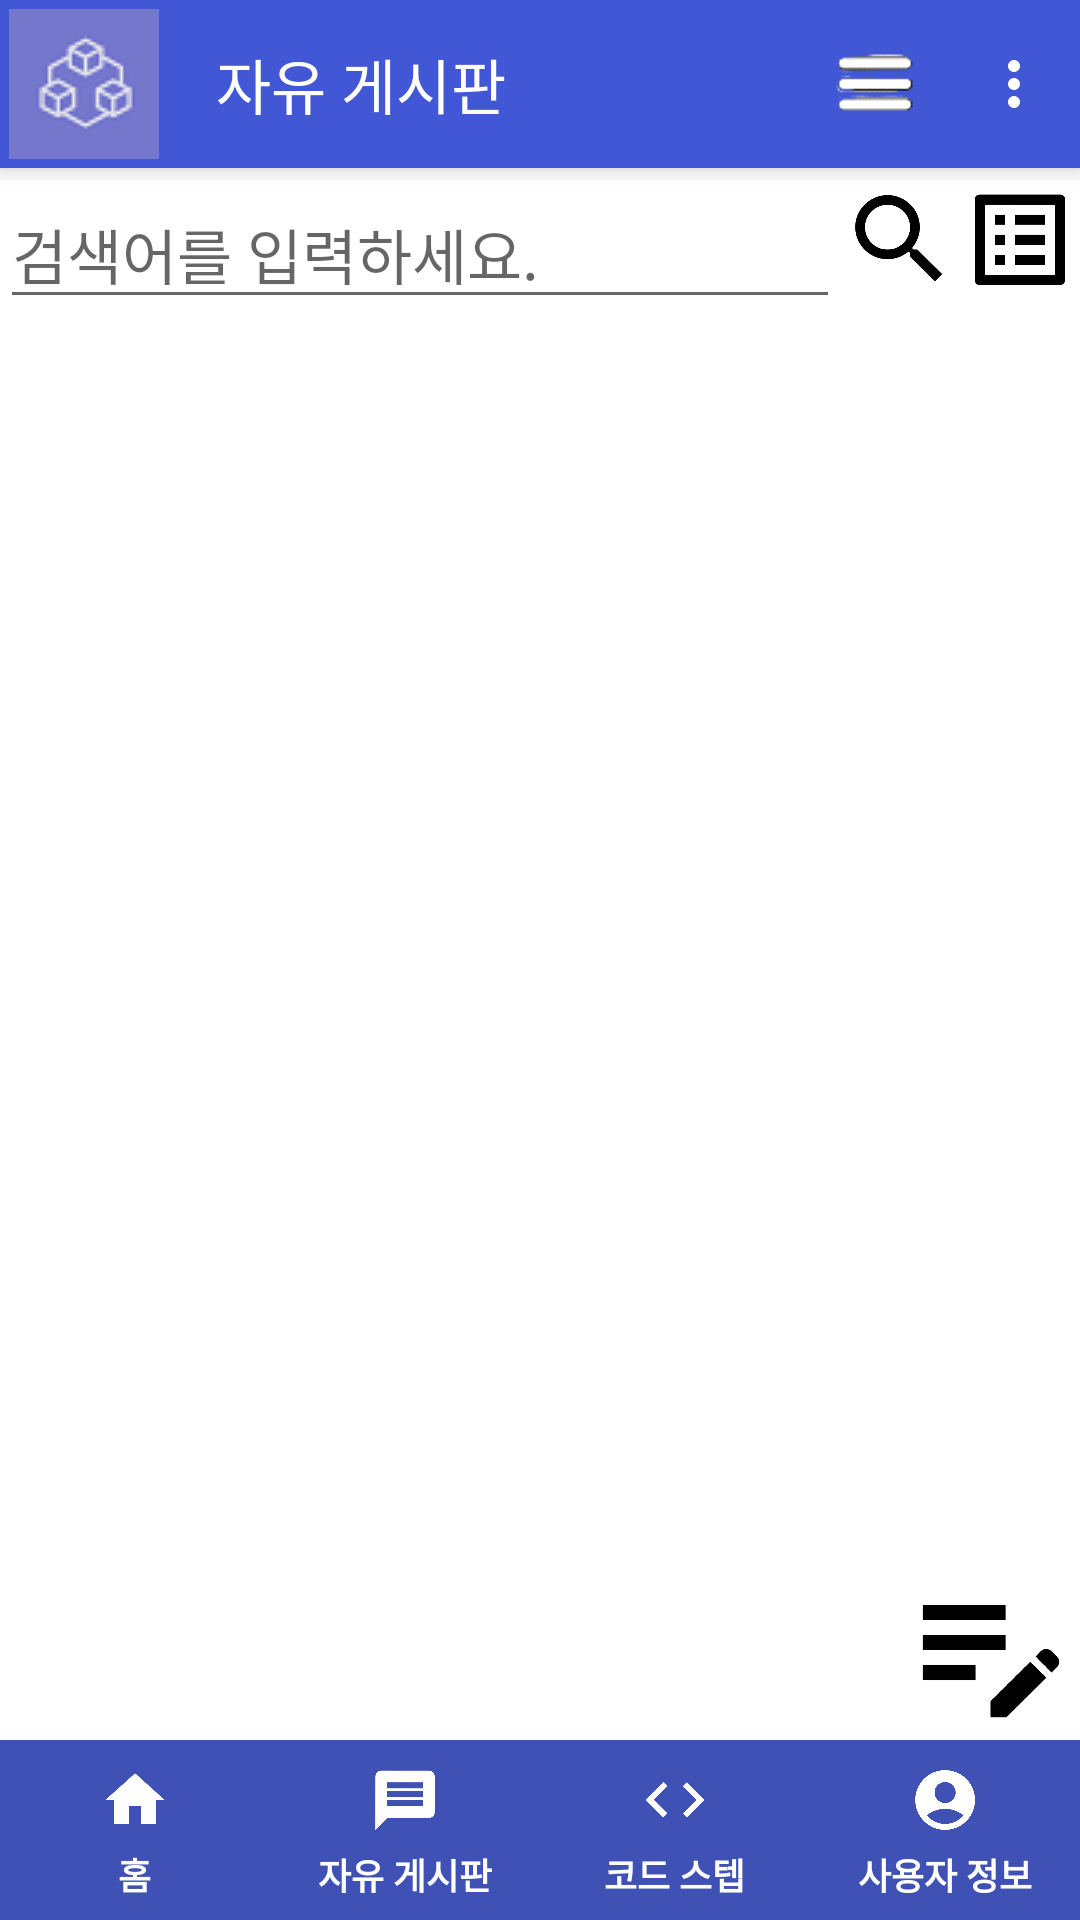

Named icons in this screenshot (1080px x 1920px) and their centers, point (x, y):
edit: point (990, 1661)
list: point (1020, 239)
search: point (898, 238)
